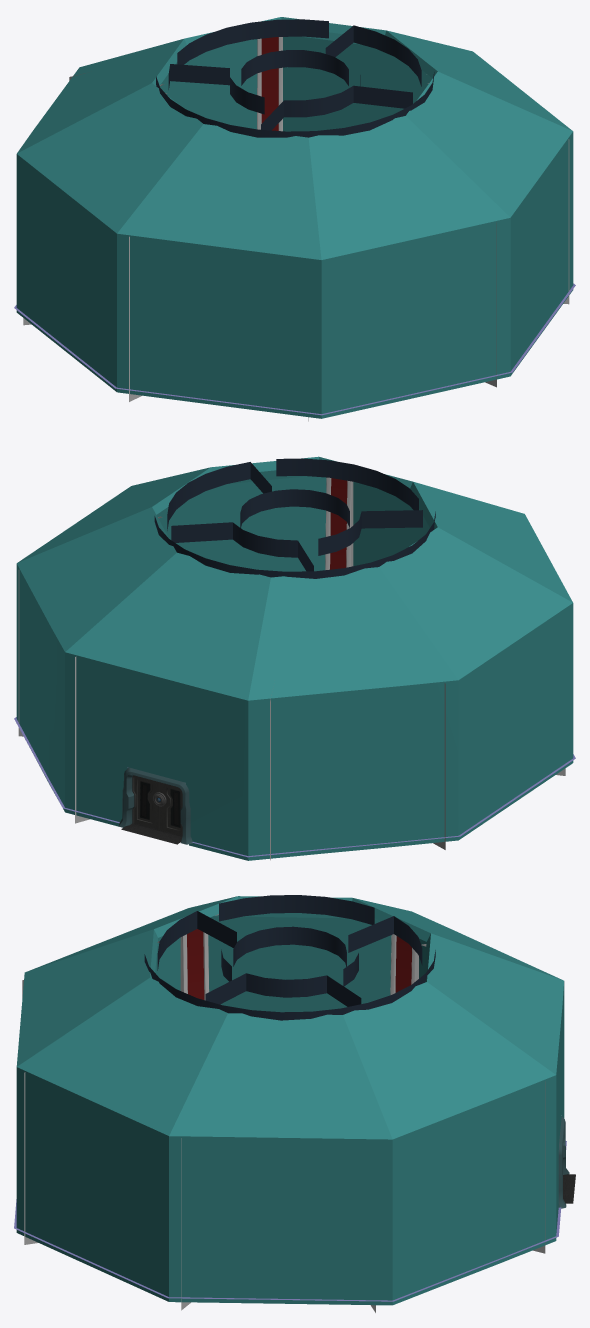
The picture shows the model from 3 angles, top to bottom: view 1: azimuth 30°, elevation 25°; view 2: azimuth 150°, elevation 25°; view 3: azimuth 270°, elevation 25°; orthographic projection. The views are drawn at different scales.
Visible parts, largest first — view 1: Lab; view 2: Lab; view 3: Lab.
Boxes of the visible parts, x1,y1,x2,y2 form: Lab: [14, 17, 575, 421]; Lab: [14, 456, 575, 860]; Lab: [14, 895, 575, 1312].
Size of the model in its own units: 38.67 by 19.07 by 39.3.
8 materials, 1 textured.
